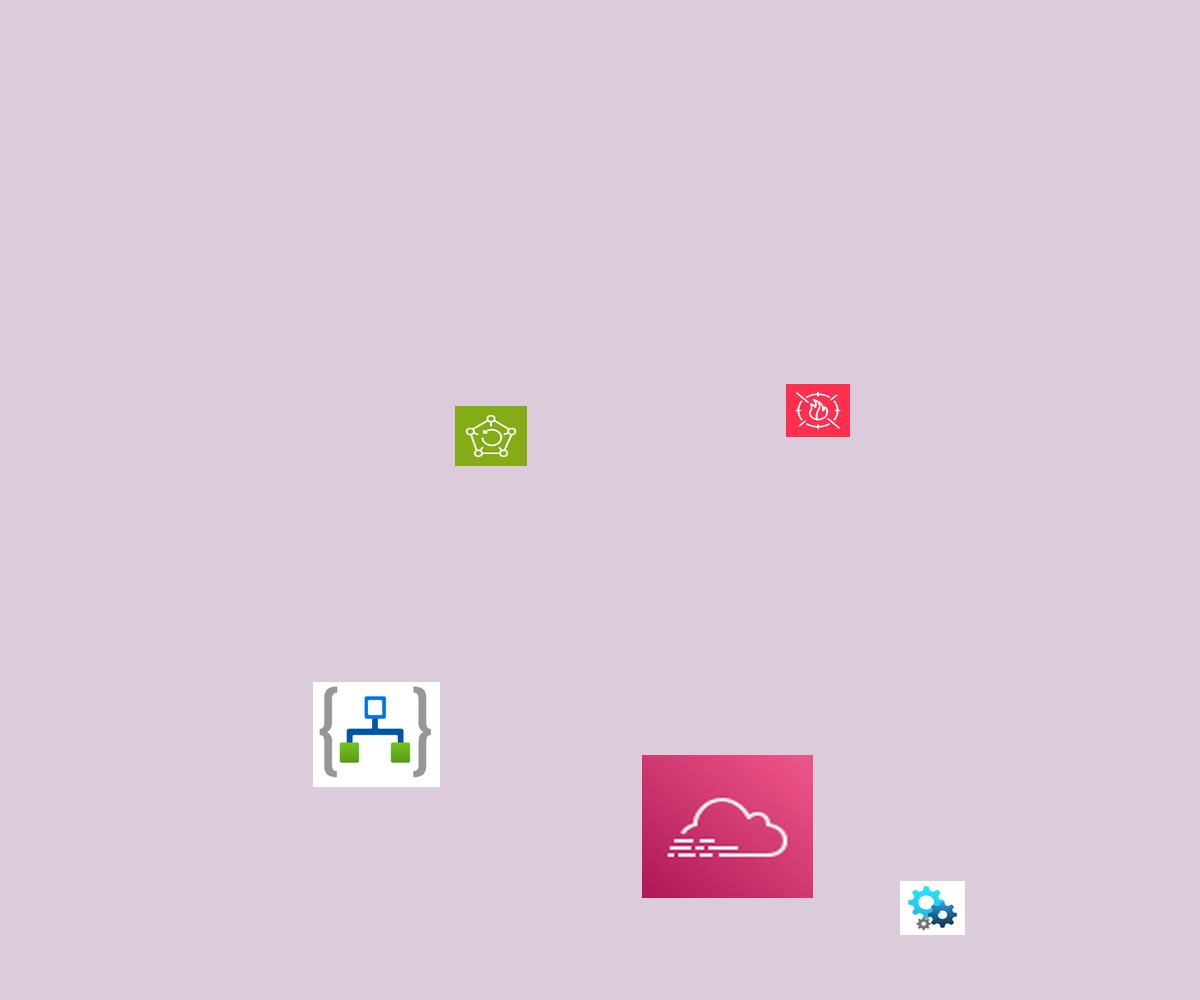AWS-Backup: (455, 406, 527, 466)
AWS-CloudTrail: (642, 755, 813, 898)
AWS-WAF: (786, 384, 850, 437)
Azure_api: (900, 881, 965, 935)
Azure_integration-204-Logic-Apps: (313, 682, 440, 787)
